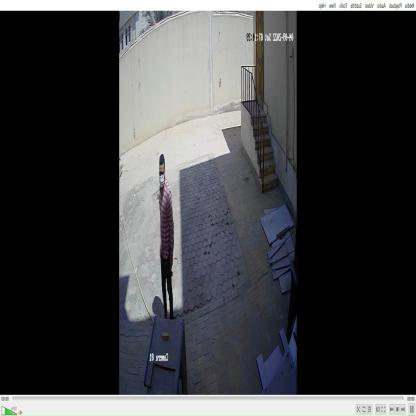handgun: (163, 246, 176, 321)
